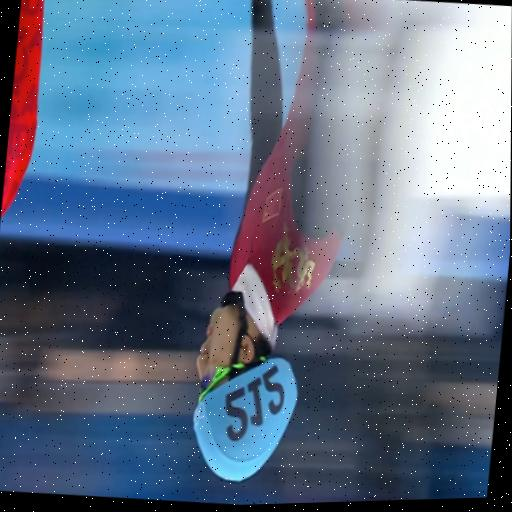Skater: (171, 0, 396, 505)
